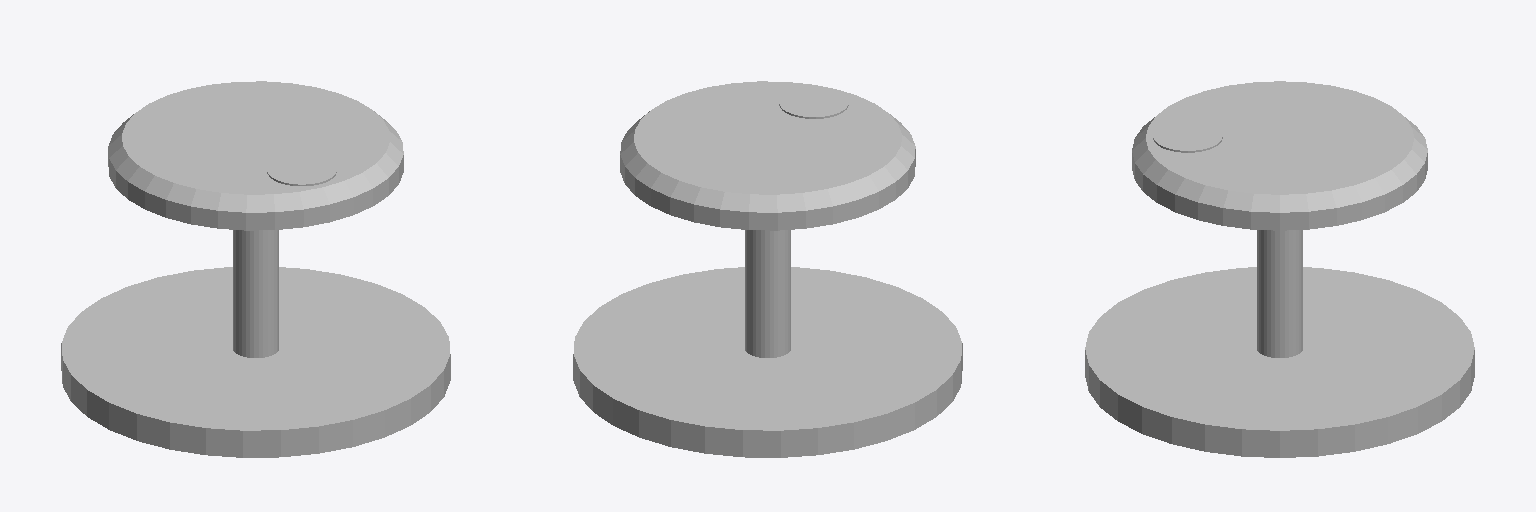
File: круглая вертелка.obj
The picture shows the model from 3 angles: view 1: azimuth 30°, elevation 25°; view 2: azimuth 150°, elevation 25°; view 3: azimuth 270°, elevation 25°; orthographic projection.
Visible parts, largest first — view 1: Cylinder; view 2: Cylinder; view 3: Cylinder.
Part boxes in pixels (x1,y1,x2,y2): Cylinder: (61, 81, 450, 457); Cylinder: (573, 81, 962, 457); Cylinder: (1085, 81, 1474, 457).
Size of the model in its own units: 2 by 1.36 by 2.